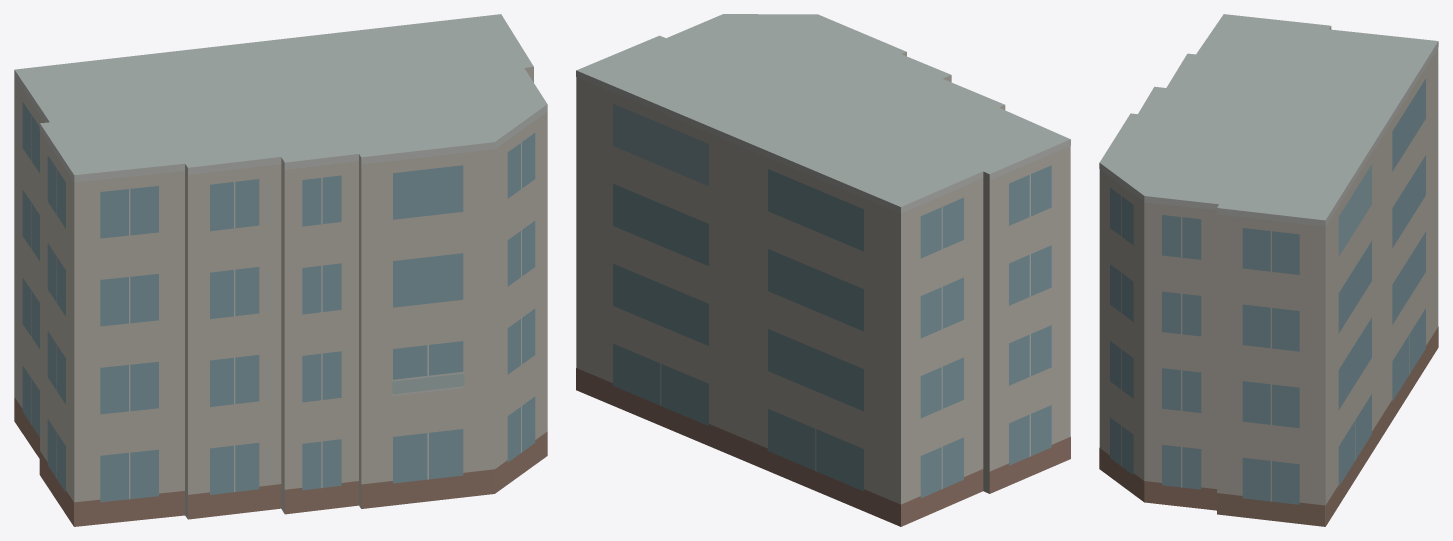
Rendered from survey-upis-32586037.glb.
3 views of the same model, side by side, from view 1: azimuth 30°, elevation 25°; view 2: azimuth 150°, elevation 25°; view 3: azimuth 270°, elevation 25° (orthographic). The views are drawn at different scales.
Parts seen in each view (by area): view 1: survey-upis-32586037.tmp; view 2: survey-upis-32586037.tmp; view 3: survey-upis-32586037.tmp.
Part boxes in pixels (x1,y1,x2,y2): survey-upis-32586037.tmp: (14, 14, 547, 526); survey-upis-32586037.tmp: (576, 14, 1070, 526); survey-upis-32586037.tmp: (1099, 14, 1438, 526).
Bounding box in the file's own units: 17.2 × 11.9 × 11.94.
